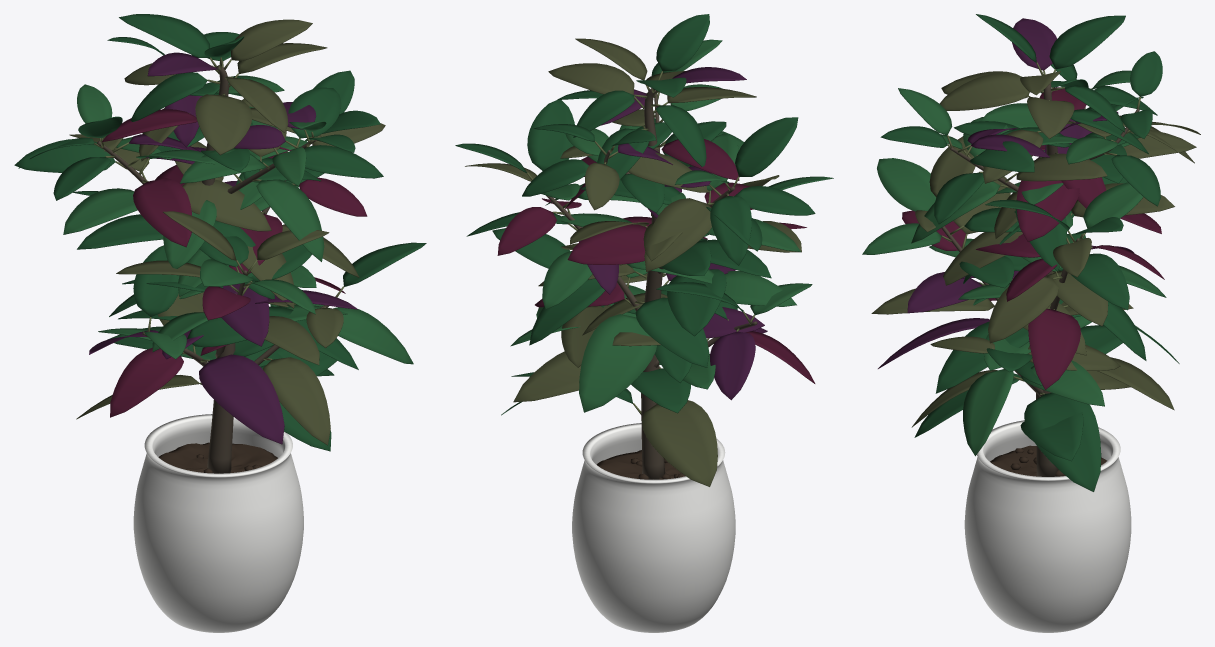
Rendered from plant_tall.glb.
The picture shows the model from 3 angles, left to right: view 1: azimuth 30°, elevation 25°; view 2: azimuth 150°, elevation 25°; view 3: azimuth 270°, elevation 25°; orthographic projection. The views are drawn at different scales.
Visible parts, largest first — view 1: pot, leaf_102, leaf_093, trunk, leaf_104, leaf_053, leaf_020, leaf_080, leaf_051, leaf_096, leaf_050, soil (+50 smaller); view 2: pot, leaf_006, leaf_001, trunk, leaf_057, leaf_030, leaf_049, leaf_106, leaf_061, leaf_044, leaf_069, leaf_060 (+41 smaller); view 3: pot, leaf_091, leaf_029, leaf_096, leaf_034, leaf_023, leaf_075, leaf_109, leaf_027, leaf_005, leaf_037, leaf_068 (+58 smaller).
Part boxes in pixels (bbox=[...]): pot: bbox=[133, 414, 303, 632]; leaf_102: bbox=[199, 354, 284, 444]; leaf_093: bbox=[263, 357, 330, 445]; trunk: bbox=[97, 65, 336, 473]; leaf_104: bbox=[110, 347, 183, 417]; leaf_053: bbox=[133, 178, 191, 247]; leaf_020: bbox=[195, 94, 252, 155]; leaf_080: bbox=[256, 179, 324, 261]; leaf_051: bbox=[182, 179, 271, 231]; leaf_096: bbox=[333, 307, 413, 364]; leaf_050: bbox=[63, 188, 137, 234]; soil: bbox=[158, 442, 277, 473]; pot: bbox=[572, 423, 735, 632]; leaf_006: bbox=[579, 314, 656, 412]; leaf_001: bbox=[641, 400, 717, 486]; trunk: bbox=[546, 88, 757, 479]; leaf_057: bbox=[644, 198, 711, 271]; leaf_030: bbox=[635, 297, 709, 367]; leaf_049: bbox=[567, 224, 646, 264]; leaf_106: bbox=[710, 331, 755, 400]; leaf_061: bbox=[735, 117, 798, 176]; leaf_044: bbox=[527, 100, 574, 170]; leaf_069: bbox=[667, 269, 726, 336]; leaf_060: bbox=[710, 196, 751, 265]; pot: bbox=[964, 420, 1131, 632]; leaf_091: bbox=[1024, 393, 1101, 491]; leaf_029: bbox=[1028, 308, 1080, 389]; leaf_096: bbox=[963, 369, 1013, 456]; leaf_034: bbox=[988, 277, 1058, 343]; leaf_023: bbox=[939, 73, 1029, 110]; leaf_075: bbox=[877, 158, 936, 211]; leaf_109: bbox=[1016, 180, 1079, 241]; leaf_027: bbox=[1049, 15, 1125, 69]; leaf_005: bbox=[935, 321, 1029, 393]; leaf_037: bbox=[1071, 253, 1129, 310]; leaf_068: bbox=[907, 272, 982, 313].
Size of the model in its own units: 1.32 by 2.15 by 1.12.
